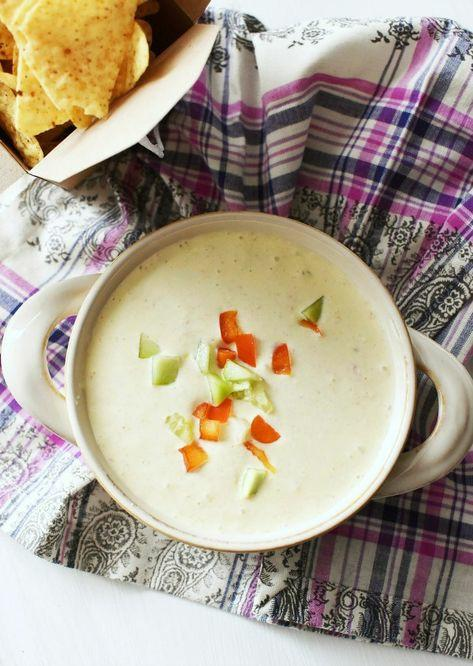Kheer: (85, 233, 391, 532)
